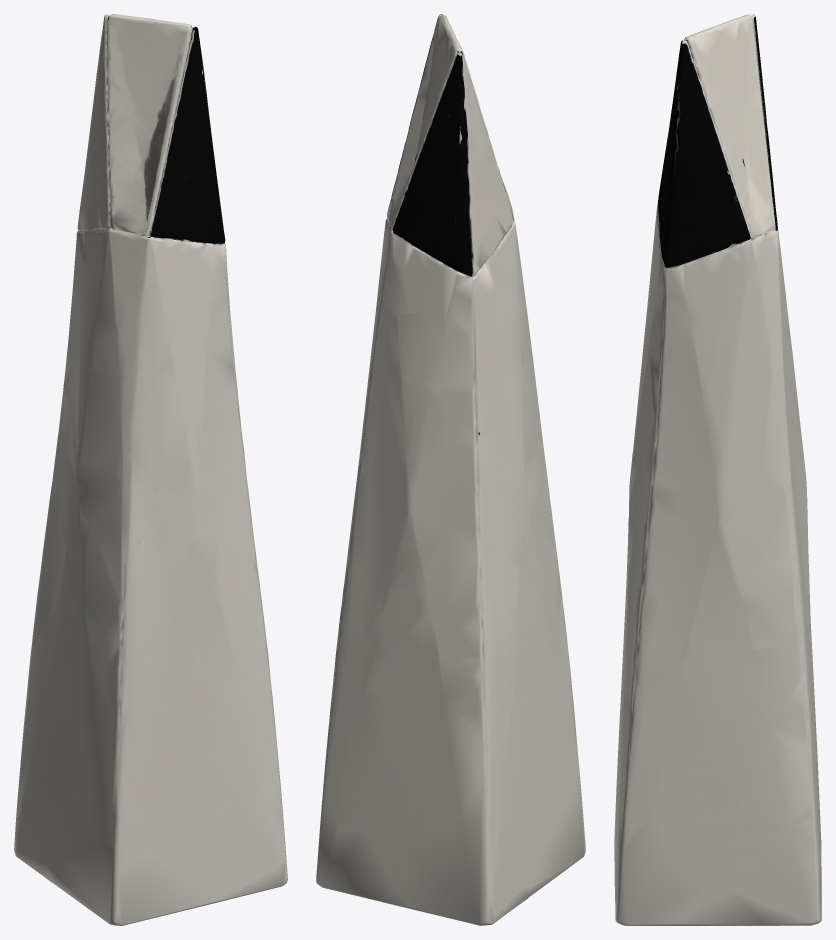
File: bishop-white.glb
The picture shows the model from 3 angles, left to right: view 1: azimuth 30°, elevation 25°; view 2: azimuth 150°, elevation 25°; view 3: azimuth 270°, elevation 25°; orthographic projection. The views are drawn at different scales.
Size of the model in its own units: 0.329 by 1.5 by 0.3285.
Materials: 1 (1 with a texture image).
